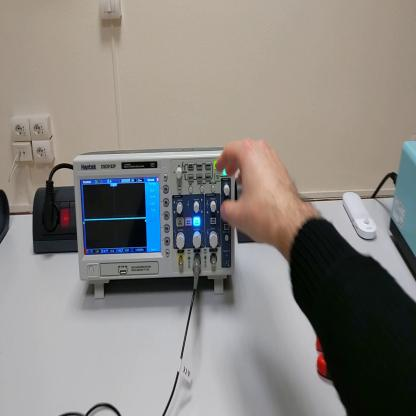hand: (216, 139, 300, 247)
oscilloscope: (72, 150, 238, 304)
pliers: (318, 337, 334, 385)
socket: (32, 189, 78, 254), (2, 184, 11, 245)
welder station: (390, 141, 416, 282)
